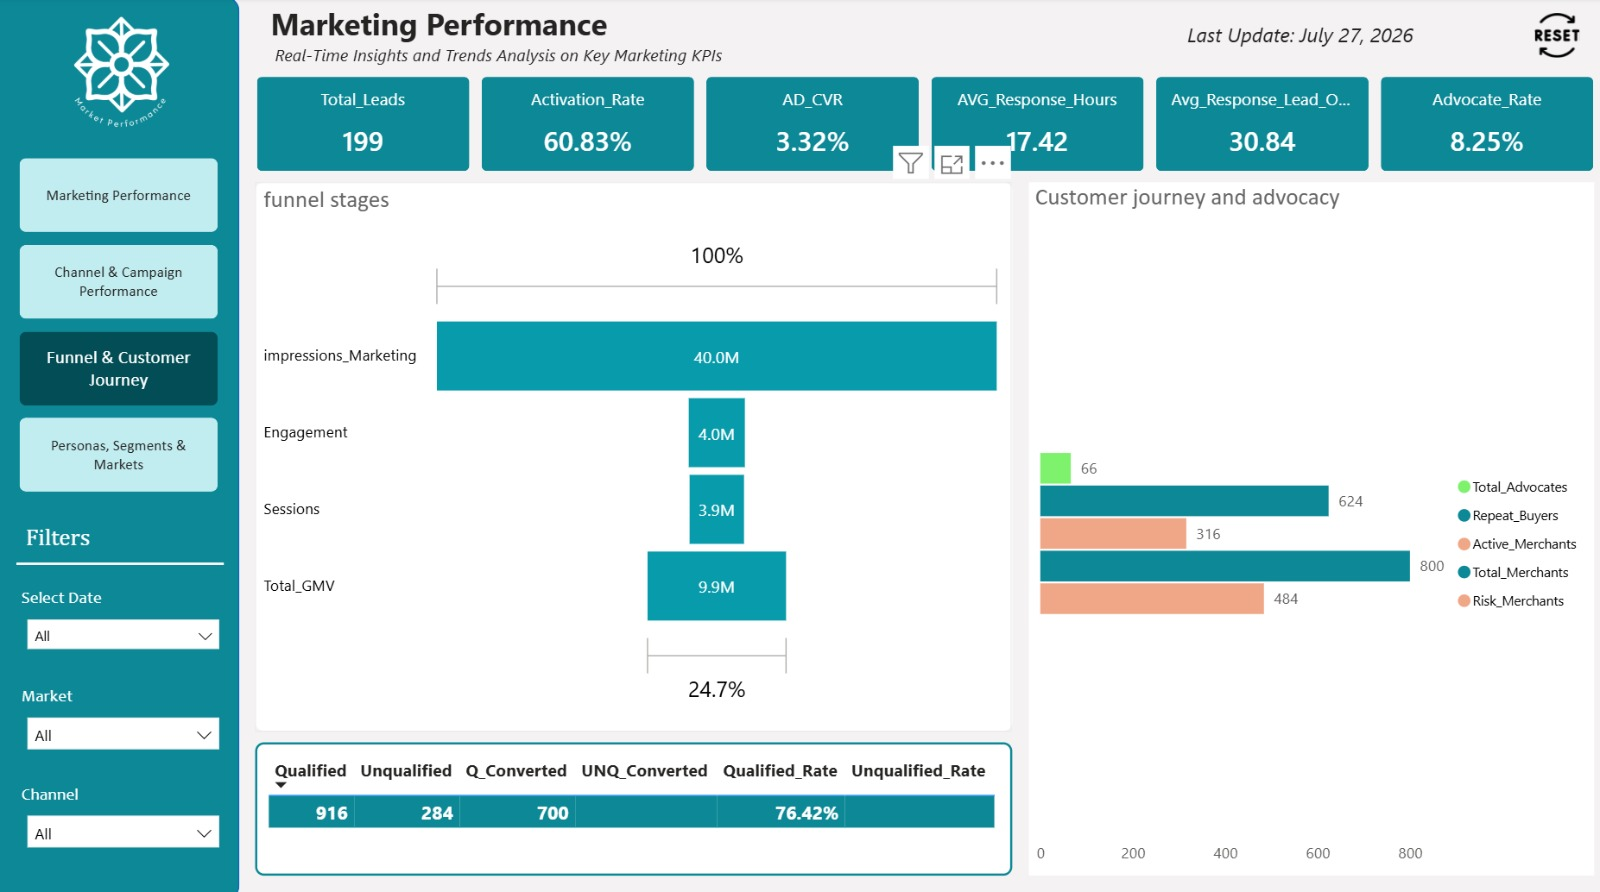

What the dashboard file says about the page in this screenshot:
{"tool":"powerbi","page":{"name":"Funnel & Customer Journey","canvas":[1280,720],"ordinal":2},"visuals":[{"type":"shape","box":[0,0,192,720],"z":0,"group":"g2"},{"type":"textbox","box":[211.4,0,399.1,69.6],"z":0},{"type":"textbox","box":[937.4,14.4,203.5,34.1],"z":1000},{"type":"actionButton","box":[1210.5,0,63,61.7],"z":2000},{"type":"group","id":"g1","title":"Group 6","box":[0,0,192,720],"z":3000},{"type":"cardVisual","fields":{"Data":["AA_Measures.Total_Leads","AA_Measures.Activation_Rate","AA_Measures.AD_CVR","AA_Measures.AVG_Response_Hours","AA_Measures.Avg_Response_Lead_Only","AA_Measures.Advocate_Rate"]},"box":[200.9,59.1,1076.5,85.3],"z":4000},{"type":"funnel","title":"funnel stages","fields":{"Y":["AA_Measures.impressions_Marketing","AA_Measures.Total_Engagement","Sum(GA4.Sessions)","AA_Measures.Total_GMV"]},"box":[204.8,148.4,602.6,437.2],"z":6000},{"type":"slicer","title":"Select Date","fields":{"Values":["Calendar.Date.Variation.Date Hierarchy.Year","Calendar.Date.Variation.Date Hierarchy.Month"]},"box":[7.9,466.1,177.2,65.6],"z":6500,"group":"g2"},{"type":"clusteredBarChart","title":"Customer journey and advocacy","fields":{"Y":["AA_Measures.Total_Advocates","AA_Measures.Repeat_Buyers","AA_Measures.Active_Merchants","AA_Measures.Total_Merchants","AA_Measures.Risk_Merchants"]},"box":[820.5,148.4,450.3,552.7],"z":7000},{"type":"slicer","title":"Market","fields":{"Values":["Markets.Country"]},"box":[7.9,543.5,177.2,65.6],"z":7000,"group":"g2"},{"type":"group","id":"g2","title":"Group 5","box":[0,0,192,720],"z":7500,"group":"g1"},{"type":"slicer","title":"Channel","fields":{"Values":["ChannelDim.Channel"]},"box":[7.9,622.3,177.2,65.6],"z":7500,"group":"g2"},{"type":"textbox","box":[17.1,416.2,116.8,36.8],"z":8000,"group":"g2"},{"type":"tableEx","fields":{"Values":["AA_Measures.Qualified","AA_Measures.Unqualified","AA_Measures.Q_Converted","AA_Measures.UNQ_Converted","AA_Measures.Qualified_Rate","AA_Measures.Unqualified_Rate"]},"box":[204.8,594.7,602.6,106.3],"z":8000},{"type":"shape","box":[14.4,449,165.4,6.6],"z":8500,"group":"g2"},{"type":"image","box":[39.4,15.8,114.2,90.6],"z":9000,"group":"g2"},{"type":"pageNavigator","box":[17.1,128.7,158.9,269.1],"z":12000,"group":"g1"}]}

Visuals, with their boxes on the page's 1280x720 design canvas (x1, y1, x2, y2). These are canvas units, not pixel positions in the 1600x892 screenshot, which may show the page scaled, cropped or inside an application window:
shape: 0:0:192:720
textbox: 211:0:610:70
textbox: 937:14:1141:48
actionButton: 1210:0:1274:62
"Group 6" group: 0:0:192:720
cardVisual - AA_Measures.Total_Leads x AA_Measures.Activation_Rate: 201:59:1277:144
"funnel stages" funnel: 205:148:807:586
"Select Date" slicer: 8:466:185:532
"Customer journey and advocacy" clusteredBarChart: 820:148:1271:701
"Market" slicer: 8:544:185:609
"Group 5" group: 0:0:192:720
"Channel" slicer: 8:622:185:688
textbox: 17:416:134:453
tableEx - AA_Measures.Qualified x AA_Measures.Unqualified: 205:595:807:701
shape: 14:449:180:456
image: 39:16:154:106
pageNavigator: 17:129:176:398
